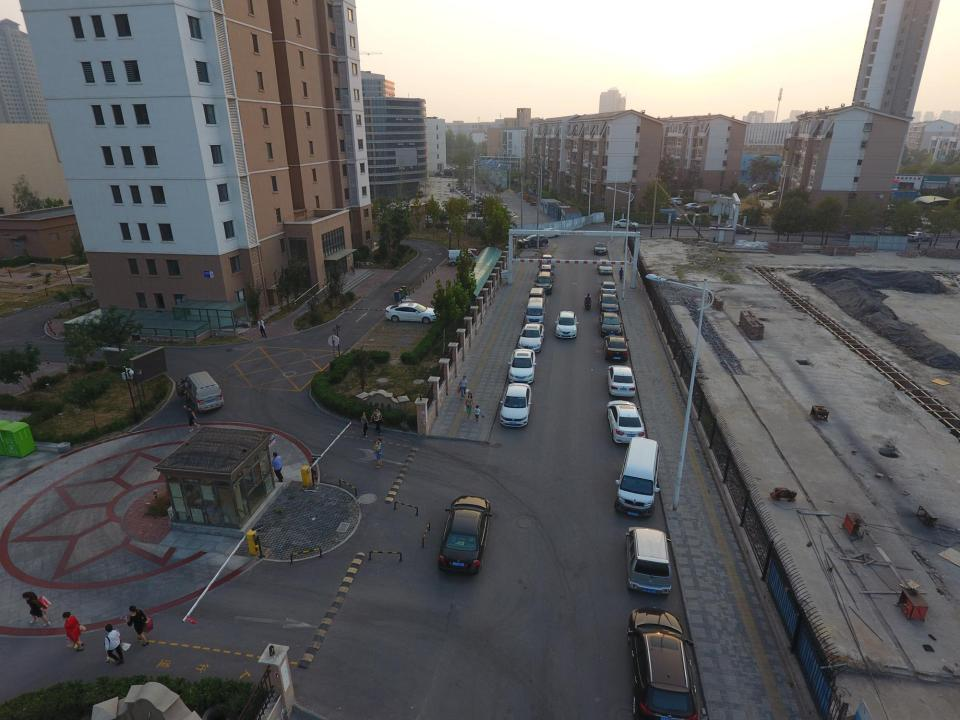car: (627, 606, 701, 720), (438, 496, 491, 575), (615, 436, 664, 520), (624, 526, 674, 594), (180, 370, 224, 411), (606, 400, 645, 444), (500, 383, 531, 429), (384, 302, 438, 322), (508, 349, 536, 384), (609, 365, 635, 398), (516, 322, 543, 353), (604, 336, 629, 361), (525, 296, 544, 326), (446, 247, 482, 262), (557, 311, 576, 339), (601, 311, 621, 336), (535, 270, 554, 291), (600, 294, 618, 314), (528, 286, 546, 303), (600, 281, 617, 297), (596, 259, 611, 274), (541, 252, 552, 270), (594, 240, 606, 253)
truck: (752, 182, 770, 191)
